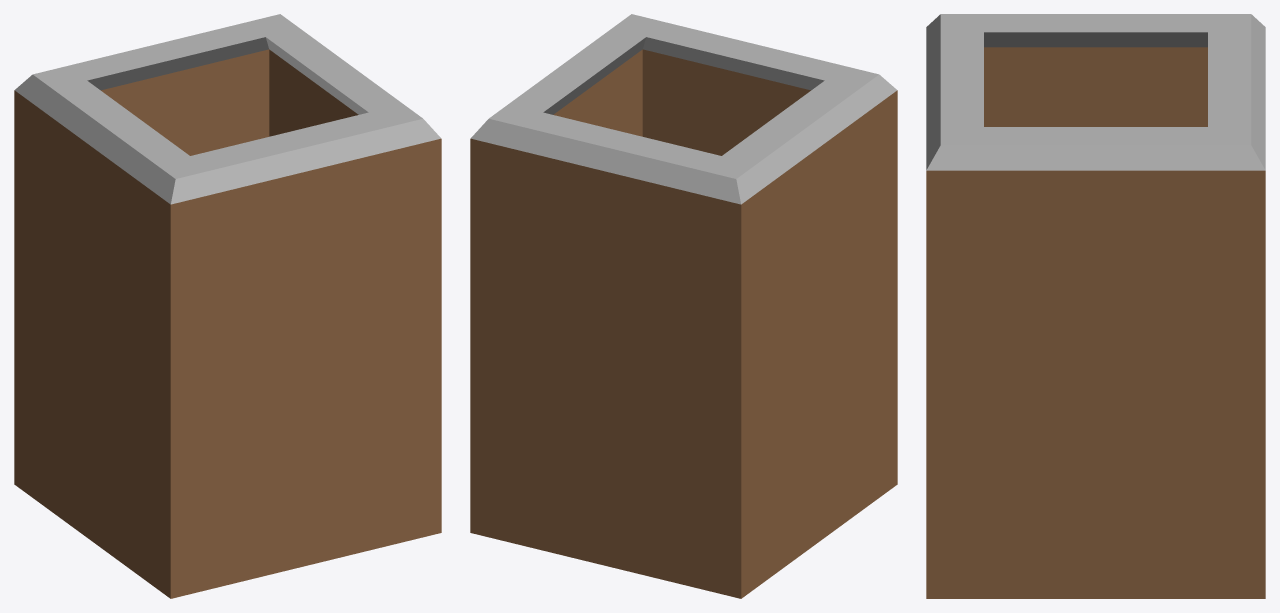
The model's file is Trashcan_1 winter.fbx.
The picture shows the model from 3 angles, left to right: view 1: azimuth 30°, elevation 25°; view 2: azimuth 150°, elevation 25°; view 3: azimuth 270°, elevation 25°; orthographic projection. The views are drawn at different scales.
Visible parts, largest first — view 1: TrashcanWinter_mesh; view 2: TrashcanWinter_mesh; view 3: TrashcanWinter_mesh.
Boxes of the visible parts, x1,y1,x2,y2 form: TrashcanWinter_mesh: [14, 14, 441, 598]; TrashcanWinter_mesh: [470, 14, 897, 598]; TrashcanWinter_mesh: [926, 14, 1265, 598].
Size of the model in its own units: 42.84 by 62.33 by 42.84.
